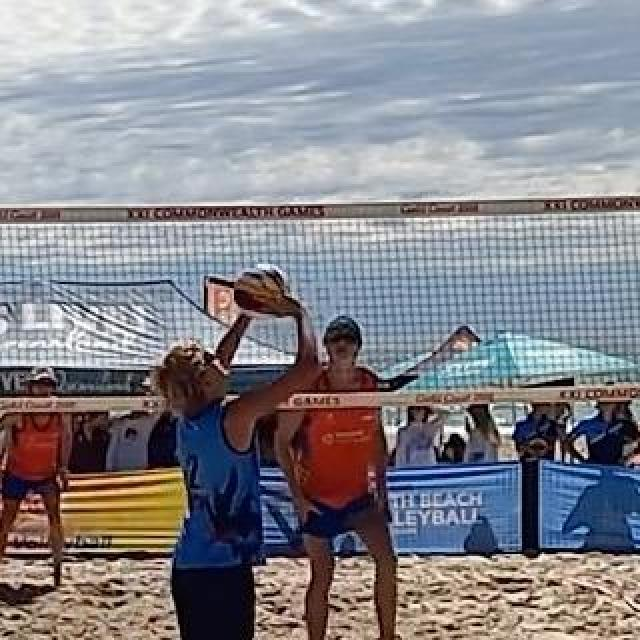volleyball: (234, 265, 284, 315)
